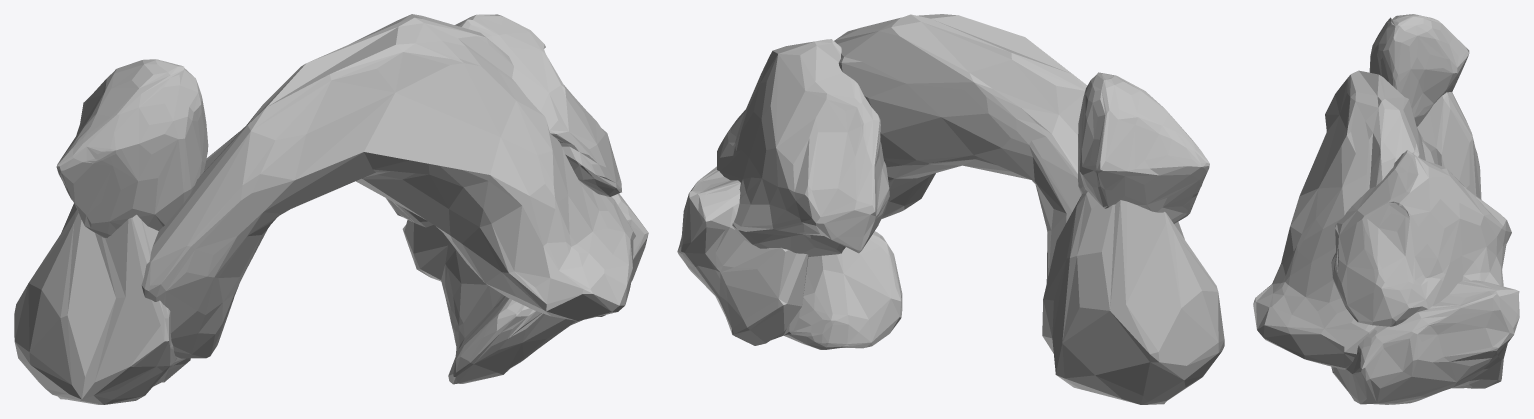
Rendered from Rock_045.fbx.
3 views of the same model, side by side, from view 1: azimuth 30°, elevation 25°; view 2: azimuth 150°, elevation 25°; view 3: azimuth 270°, elevation 25° (orthographic). The views are drawn at different scales.
Parts seen in each view (by area): view 1: Rock_045; view 2: Rock_045; view 3: Rock_045.
Boxes of the visible parts, left/top/right/bottom form: Rock_045: left=14, top=14, right=648, bottom=404; Rock_045: left=677, top=14, right=1224, bottom=404; Rock_045: left=1253, top=14, right=1519, bottom=404.
Size of the model in its own units: 1336 by 722 by 832.
Materials: 1 (1 with a texture image).
